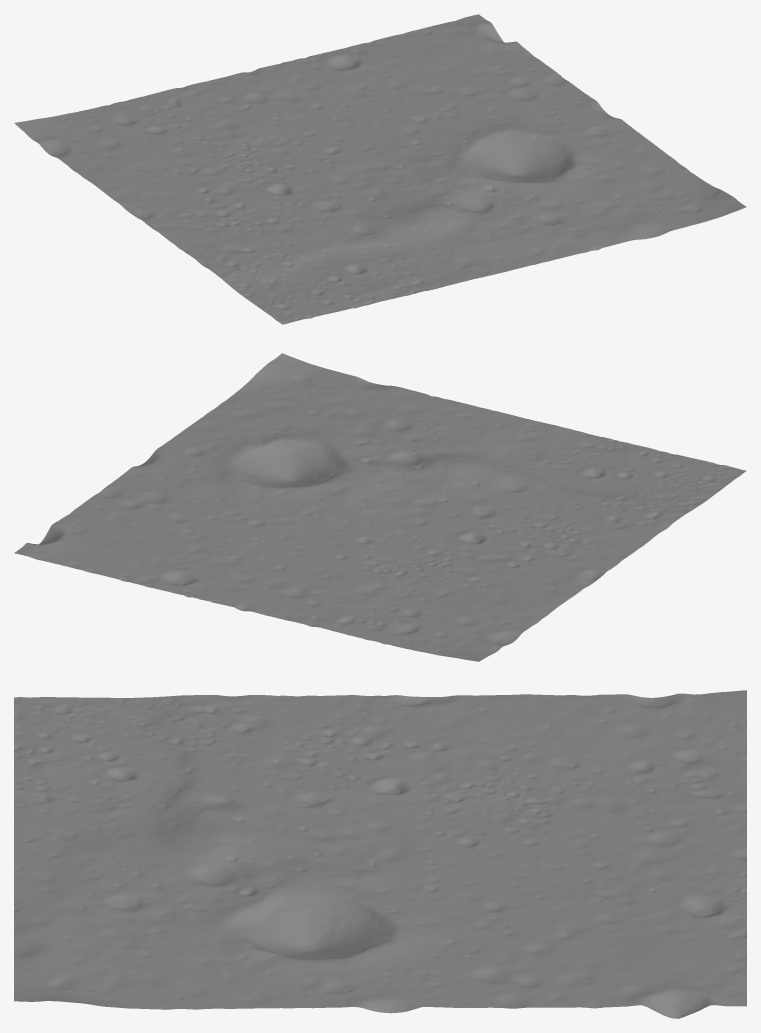
Rendered from cabeus-exterior-wall-1.glb.
The picture shows the model from 3 angles, top to bottom: view 1: azimuth 30°, elevation 25°; view 2: azimuth 150°, elevation 25°; view 3: azimuth 270°, elevation 25°; orthographic projection. The views are drawn at different scales.
Visible parts, largest first — view 1: Cabeus Exterior Wall 1 terrain; view 2: Cabeus Exterior Wall 1 terrain; view 3: Cabeus Exterior Wall 1 terrain.
Part boxes in pixels (x1,y1,x2,y2): Cabeus Exterior Wall 1 terrain: (14,14,746,324); Cabeus Exterior Wall 1 terrain: (14,353,746,661); Cabeus Exterior Wall 1 terrain: (14,690,746,1018).
Bounding box in the file's own units: 13995 × 568 × 13995.
1 material, 1 textured.
